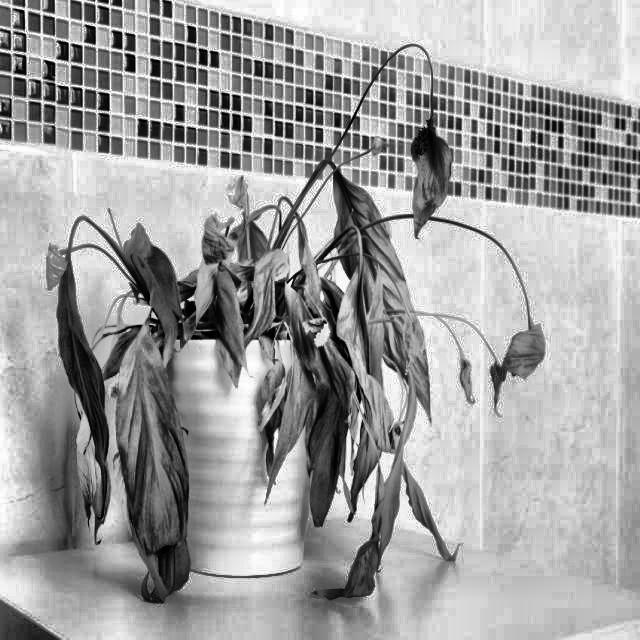plants: (30, 36, 566, 639), (39, 207, 190, 614), (260, 284, 396, 621), (398, 300, 564, 420), (408, 112, 454, 249), (192, 210, 240, 273)
